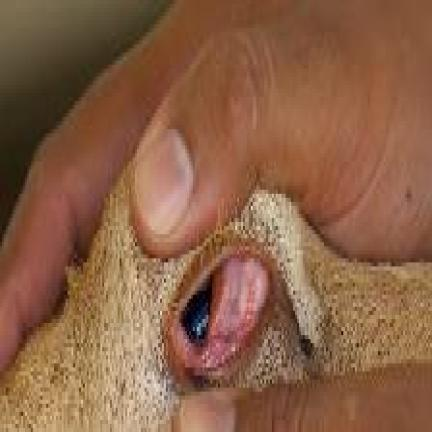goat-eye-anemia-22222222: (226, 254, 268, 343)
